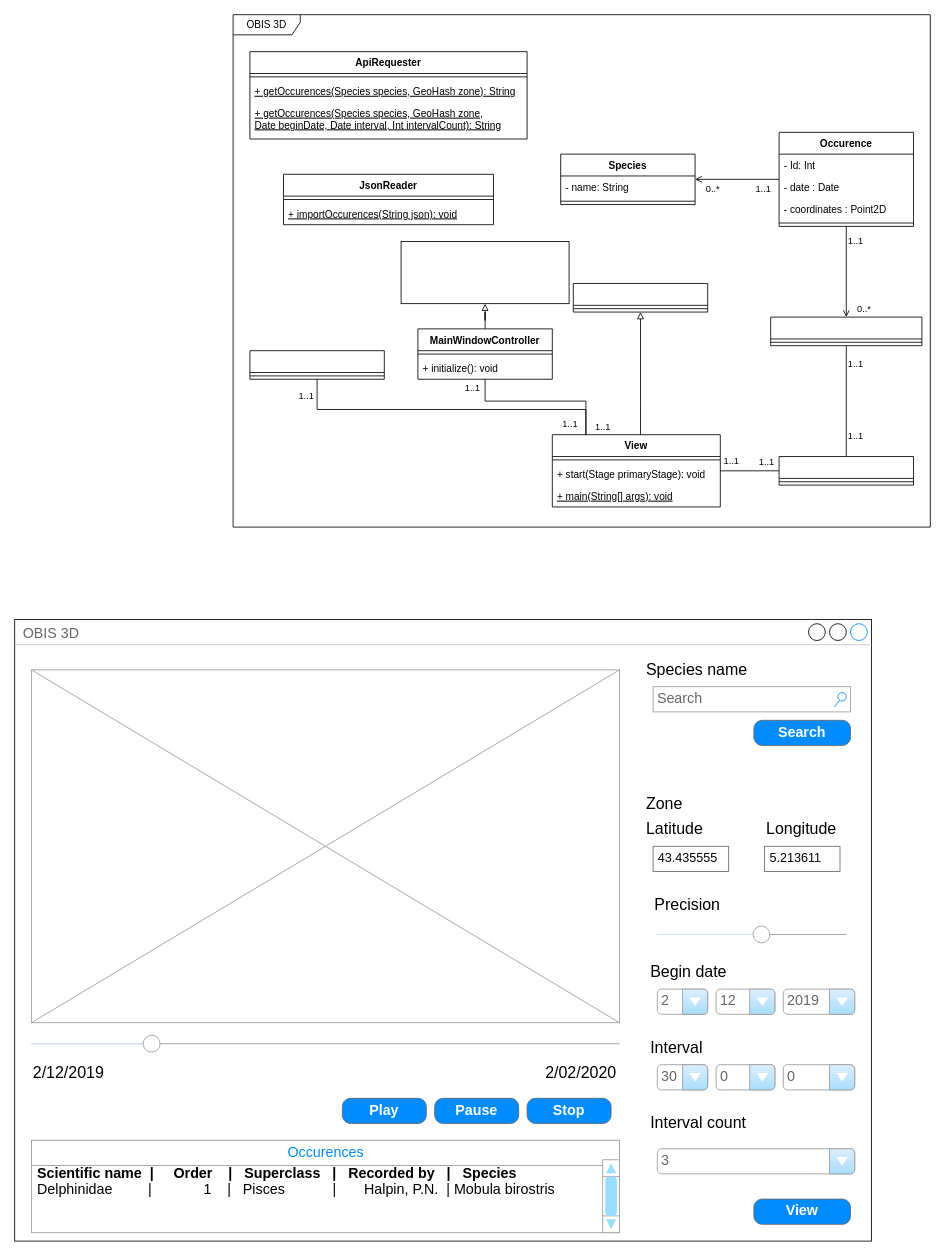
This 945x1256 diagram has some shape labels left out. The centre of each missing label's shape, as x and y in pixels:
"<<Interface>> JavaFx:Initializable" belongs at point (484, 272).
"Controller" belongs at point (846, 470).
"Earth" belongs at point (325, 846).
"EarthView" belongs at point (316, 364).
"JavaFx:Application" belongs at point (640, 297).
"Model" belongs at point (846, 331).
